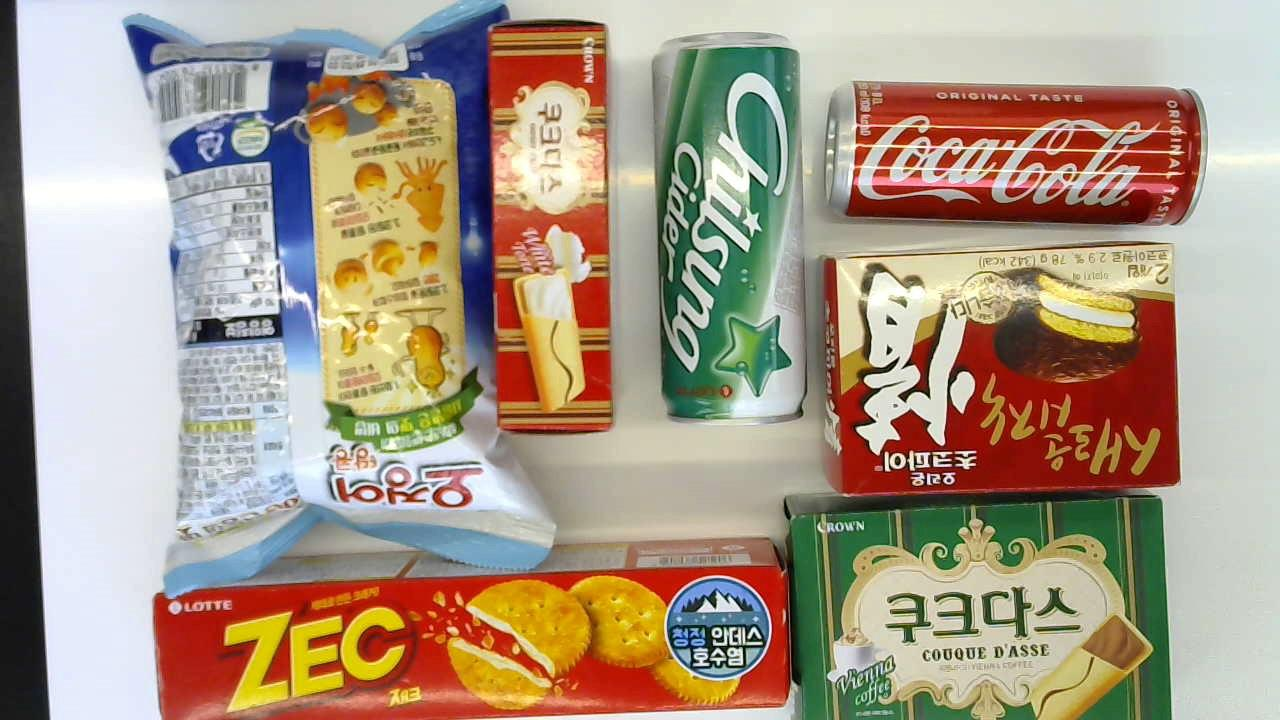cidar: (650, 30, 804, 419)
coke: (823, 77, 1207, 227)
couque_coffee: (812, 240, 1186, 497), (780, 490, 1169, 720)
couque_white: (485, 18, 617, 436)
squid_peanut: (121, 3, 557, 599)
zec: (155, 538, 790, 720)
